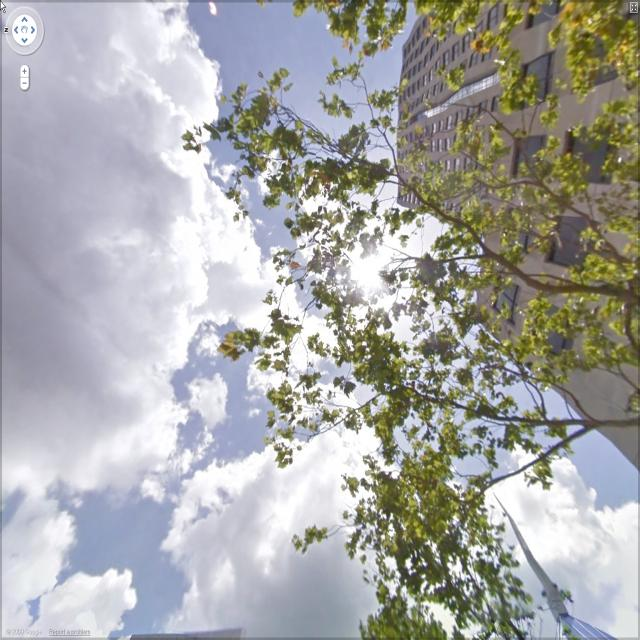b_2: (389, 4, 640, 479)
